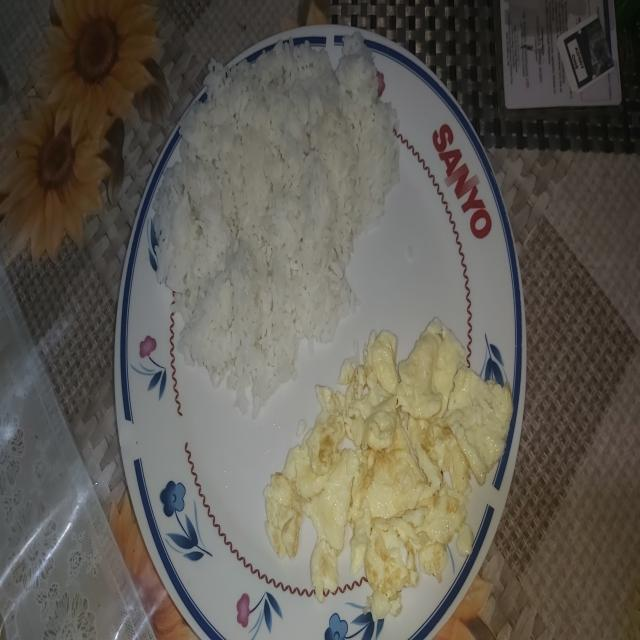Chicken -Chicken Inasal-: (165, 31, 392, 381)
